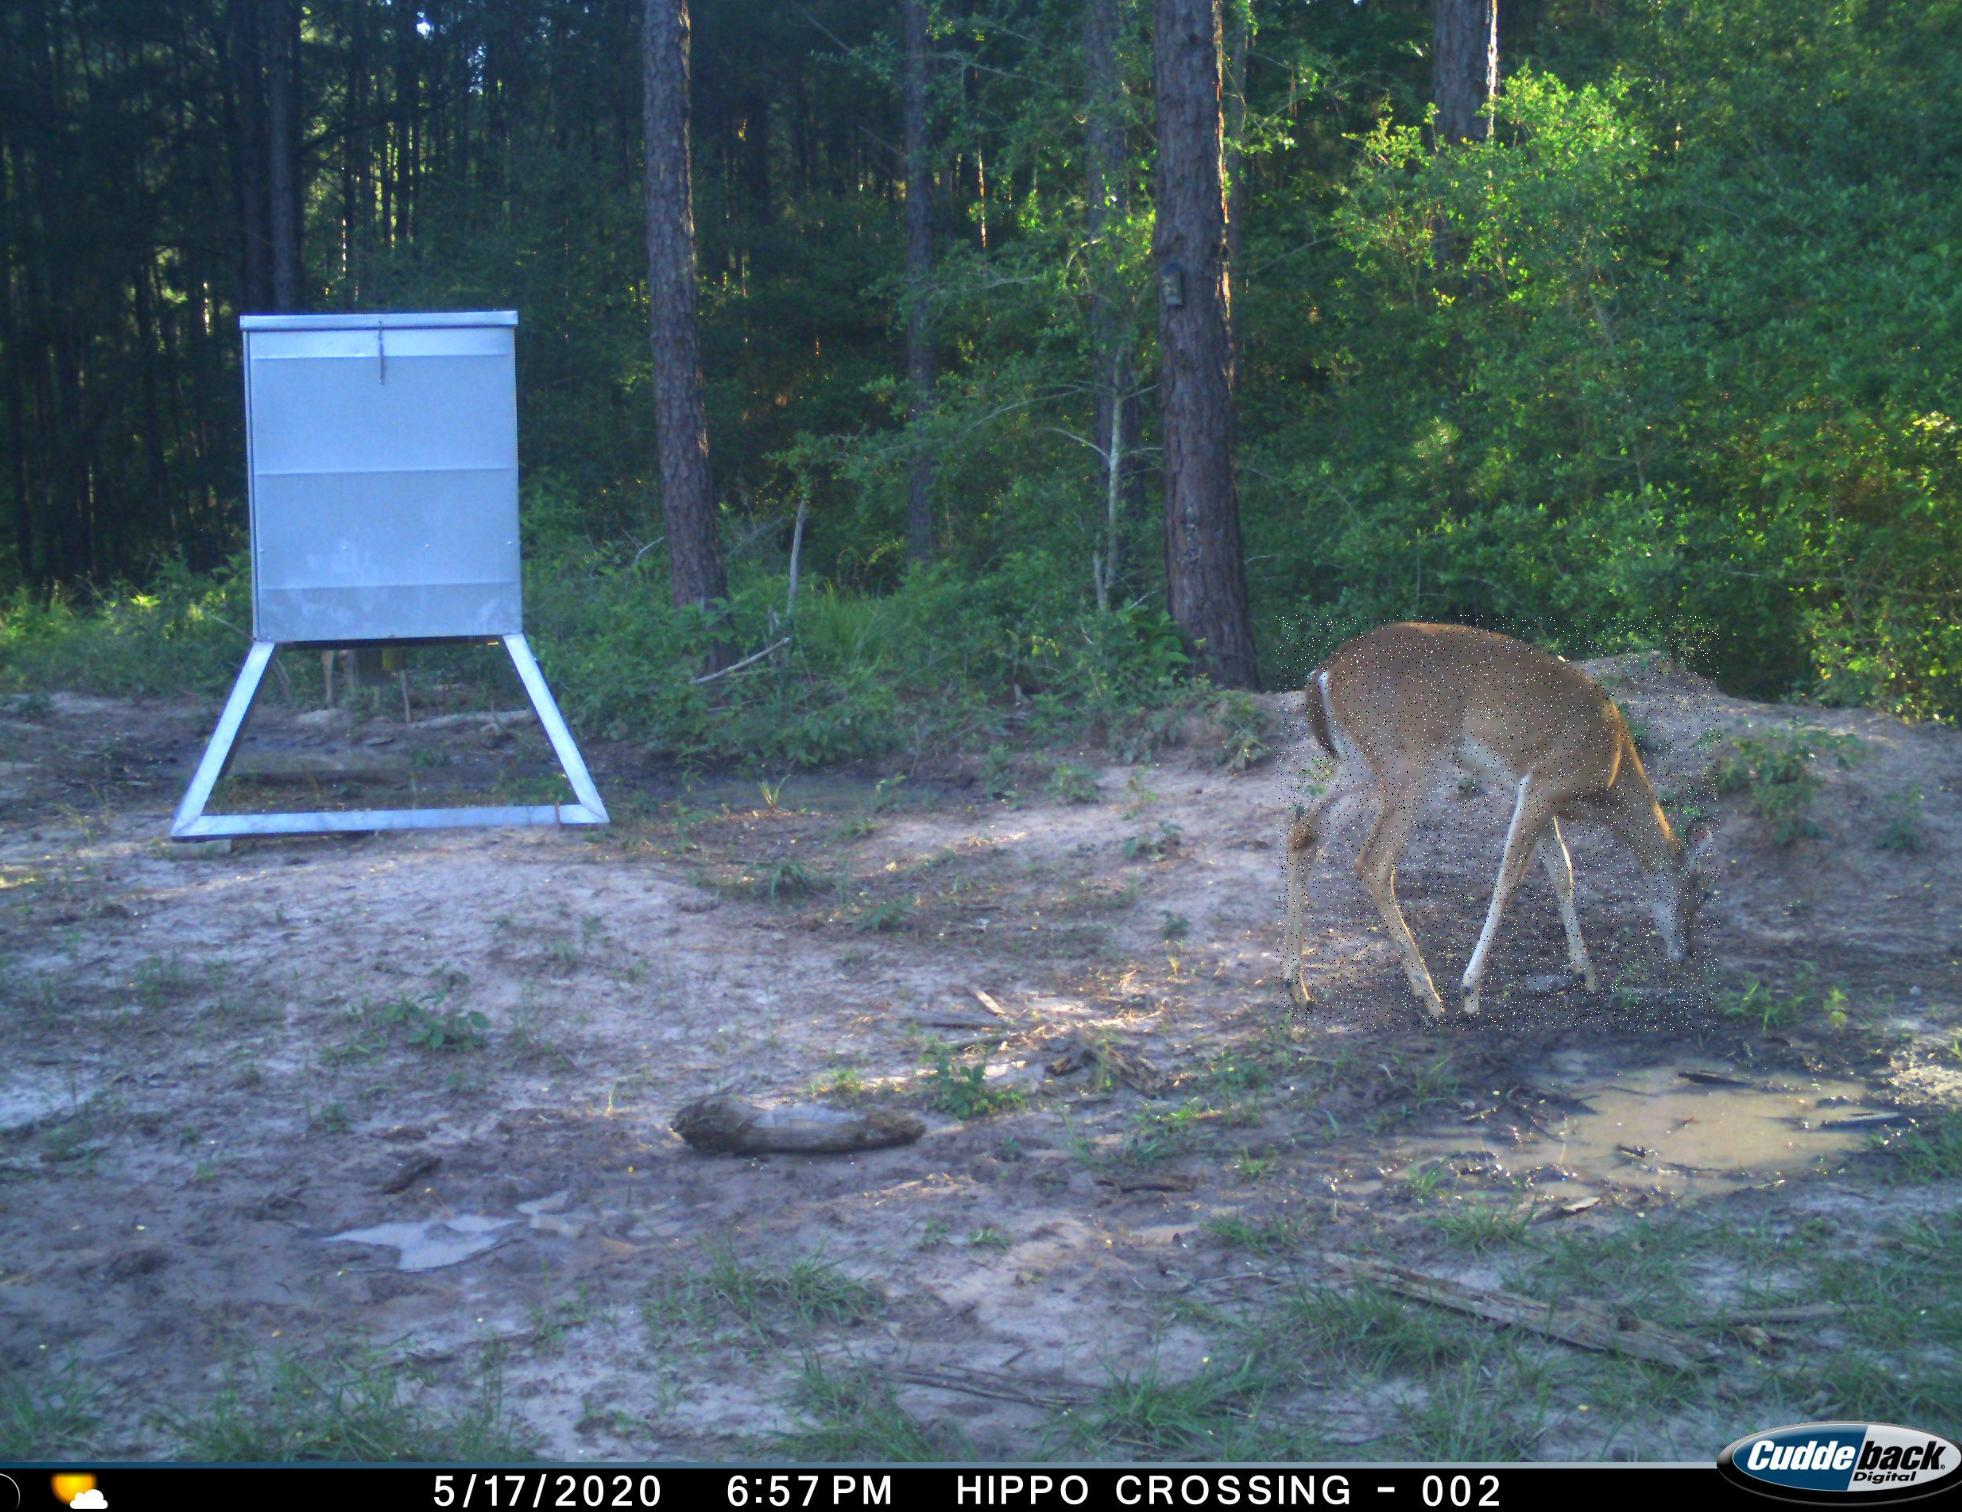Deer: (1276, 615, 1721, 1031)
